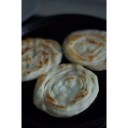parota: (39, 64, 98, 117), (65, 28, 107, 71), (23, 39, 61, 79)
